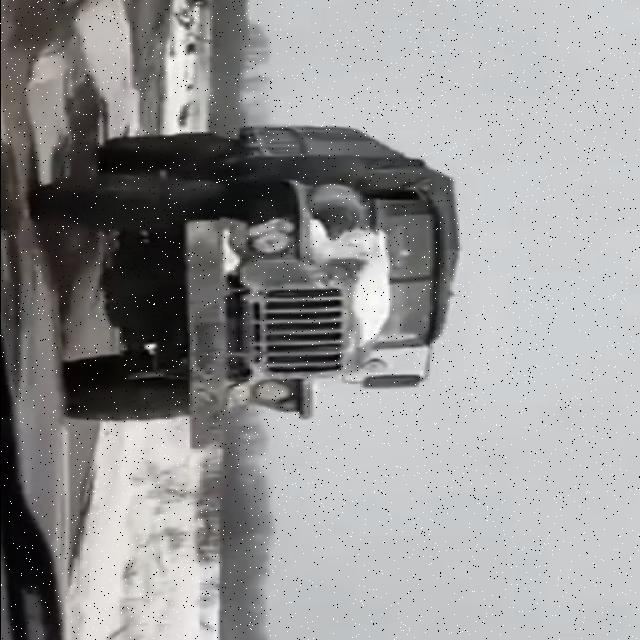TRUCK: (38, 118, 469, 428)
